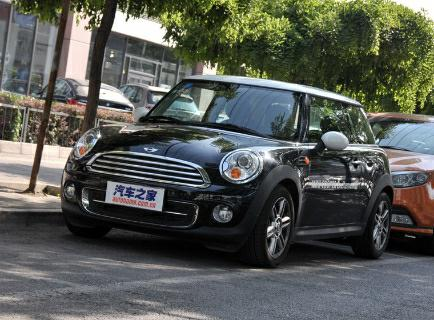MINI: (55, 75, 392, 262)
